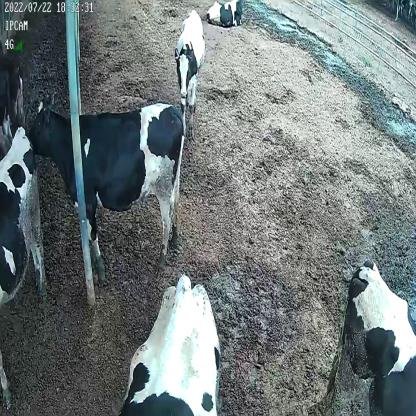cow: (28, 90, 185, 276), (172, 11, 206, 136), (206, 0, 244, 28)
